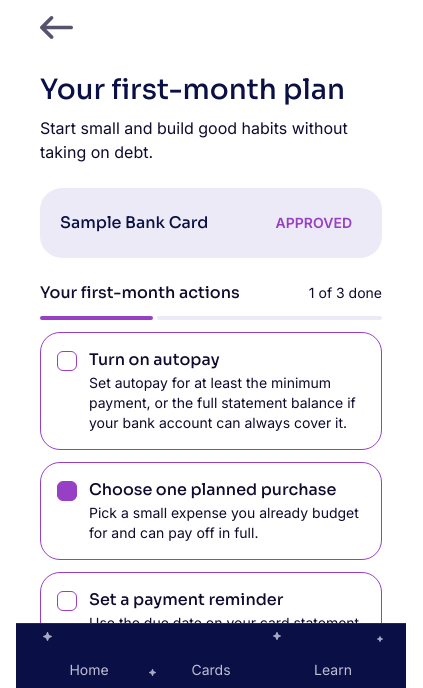
Test: FirstMonthPlan › loads saved steps and lights or puts out each one
The width and height of the screenshot is (423, 688).
Expected: the text "1 of 3 done" is shown, 309,283 -> 382,303
Click the checkbox labelled "Choose one planned purchase".
click(211, 511)  # box 40,462 -> 382,560
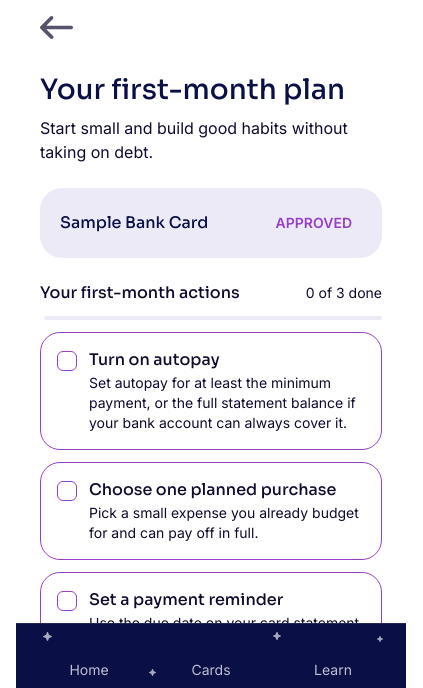
Result: the text "0 of 3 done" is shown at 306,283 -> 382,303
Click the checkbox labelled "Choose one planned purchase".
click(211, 511)  # box 40,462 -> 382,560
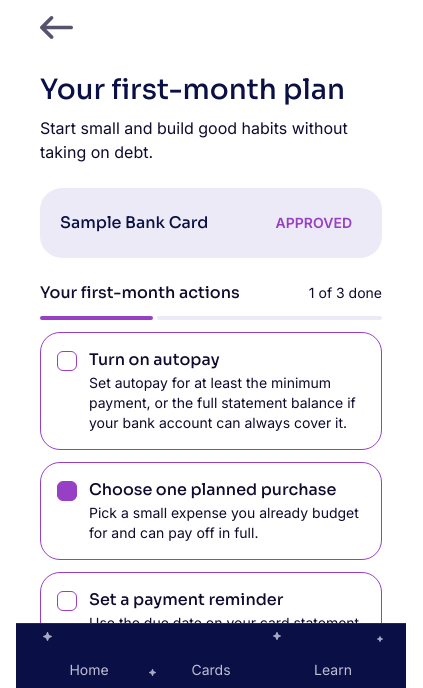
Result: the text "1 of 3 done" is shown at 309,283 -> 382,303
